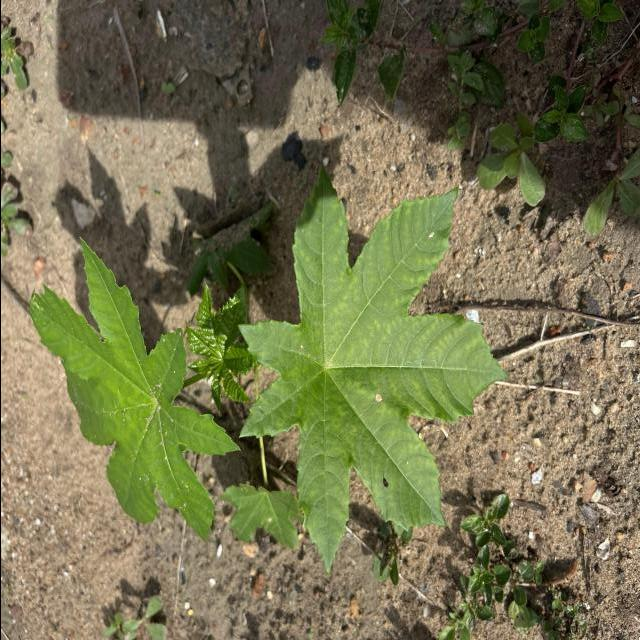Ricinus communis linn: (234, 159, 511, 577), (25, 232, 244, 548)
